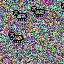sheep: (31, 5, 45, 18), (8, 32, 24, 43), (13, 10, 28, 21)
